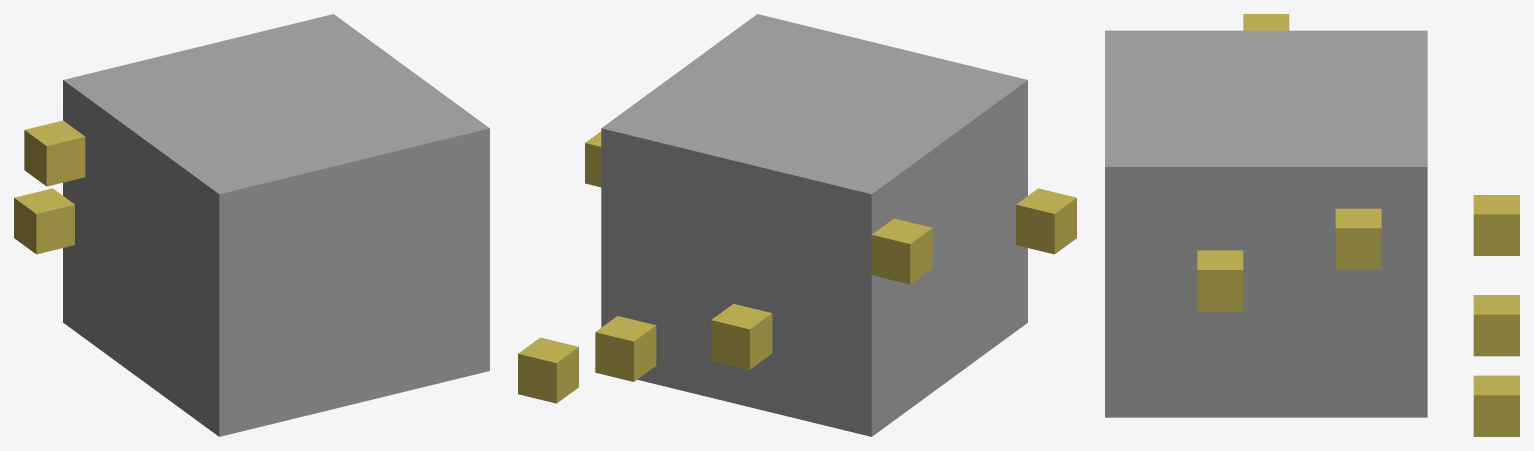
File: veta_oro_01.glb
3 views of the same model, side by side, from view 1: azimuth 30°, elevation 25°; view 2: azimuth 150°, elevation 25°; view 3: azimuth 270°, elevation 25° (orthographic). The views are drawn at different scales.
Parts seen in each view (by area): view 1: veta_oro_01; view 2: veta_oro_01; view 3: veta_oro_01.
Part boxes in pixels (x1,y1,x2,y2): veta_oro_01: (14, 14, 489, 436); veta_oro_01: (518, 14, 1076, 436); veta_oro_01: (1105, 14, 1519, 436).
Size of the model in its own units: 1.1 by 0.6 by 0.9.
